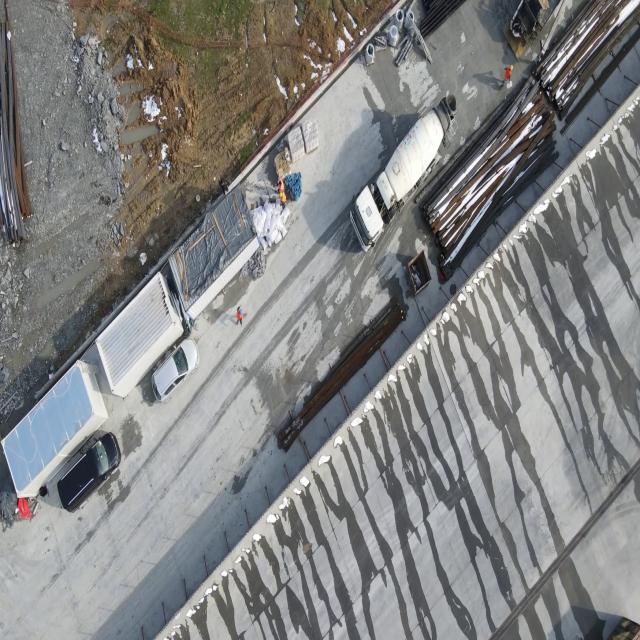p3rson: (499, 64, 513, 87), (236, 304, 248, 326), (219, 178, 228, 195), (276, 179, 284, 194), (279, 190, 286, 206)
